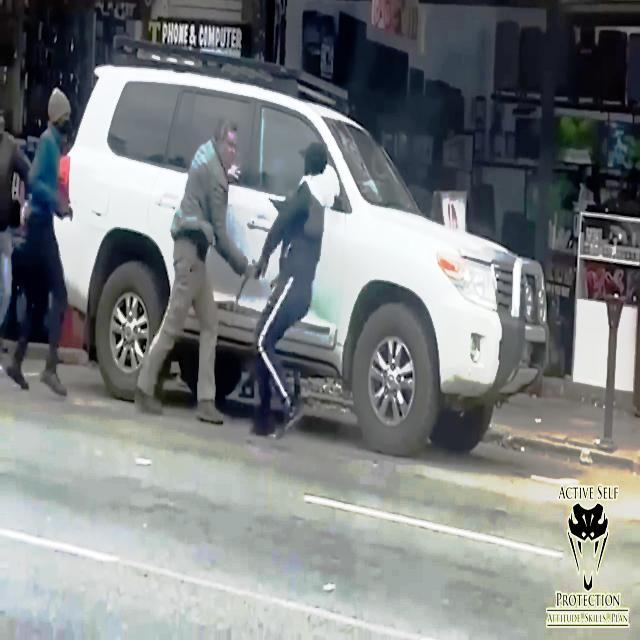Knife: (233, 254, 262, 306)
